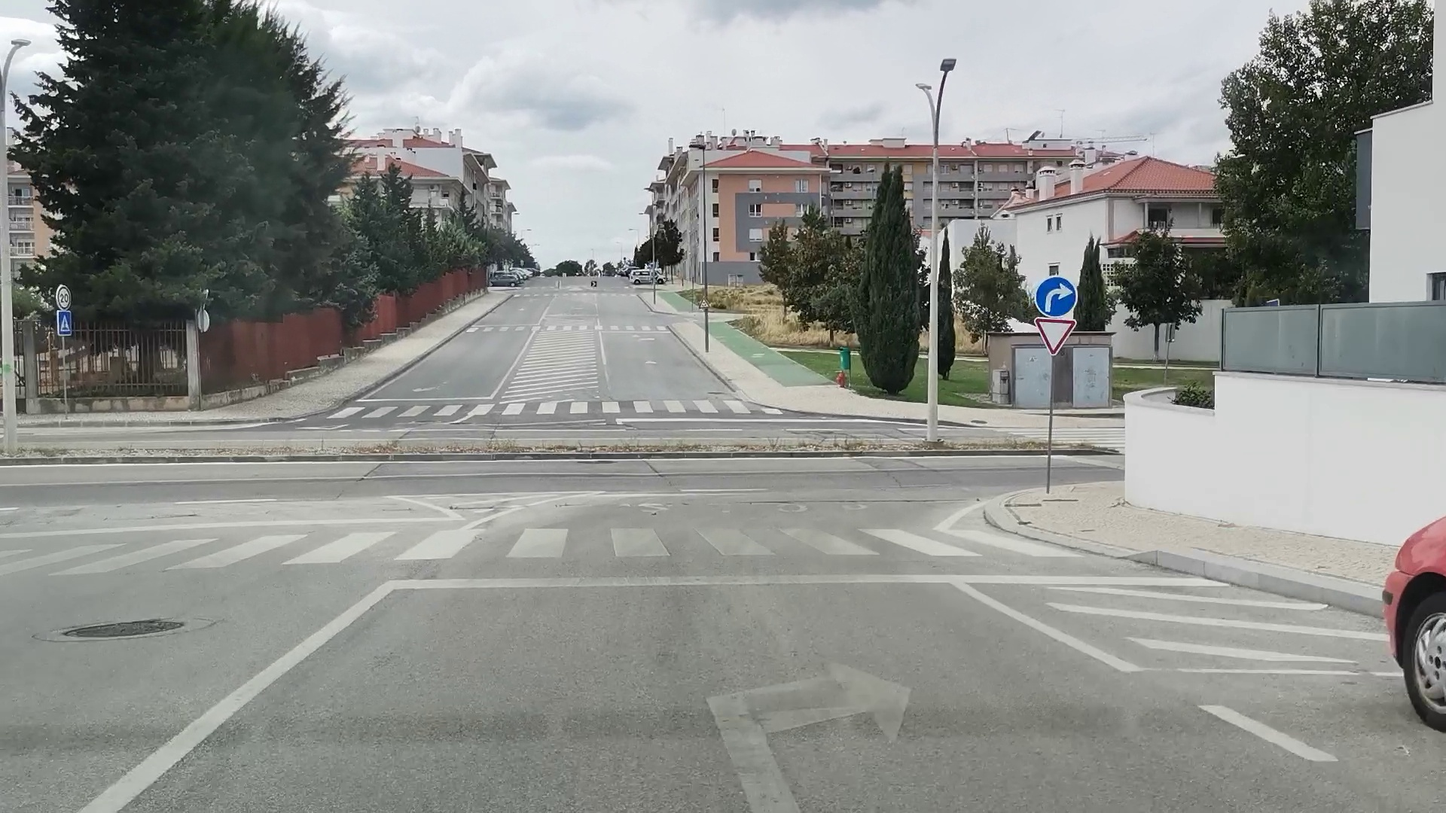Stairs: (0, 513, 1083, 580)
